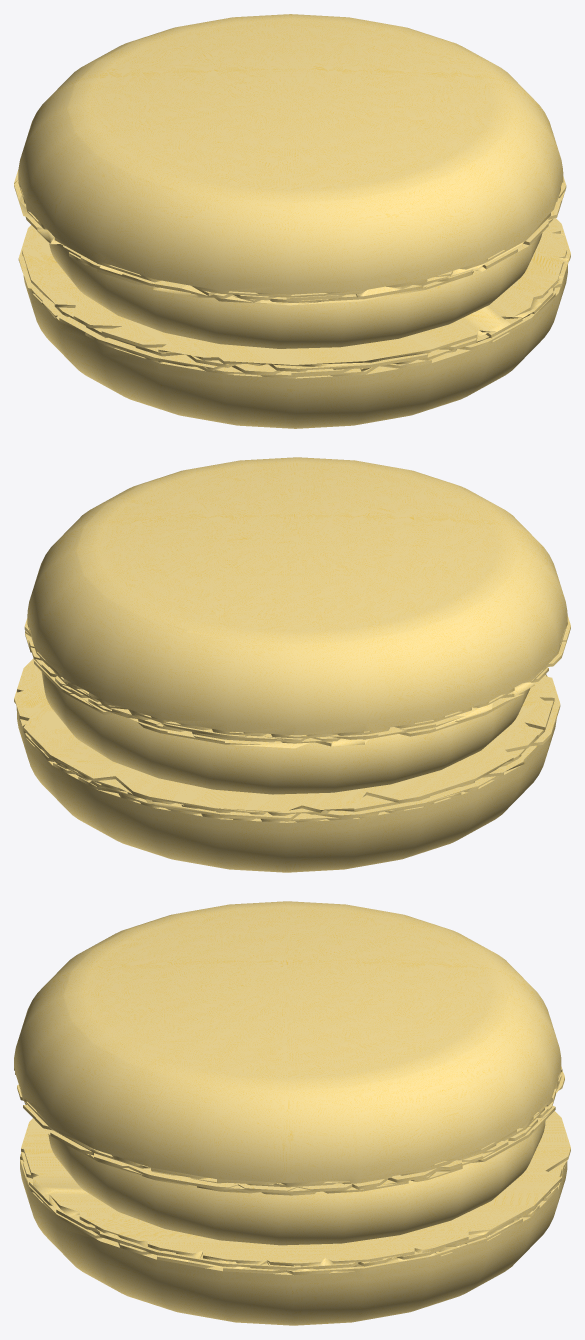
File: vanilla.dae
3 renders of one model, top to bottom at view 1: azimuth 30°, elevation 25°; view 2: azimuth 150°, elevation 25°; view 3: azimuth 270°, elevation 25°, orthographic.
Visible parts, largest first — view 1: Composant_6 (×3); view 2: Composant_6 (×3); view 3: Composant_6 (×3).
Boxes of the visible parts, <box> form: Composant_6 (×3): <box>14,14,570,428</box>; Composant_6 (×3): <box>14,457,570,872</box>; Composant_6 (×3): <box>14,901,570,1325</box>.
Size of the model in its own units: 1.14 by 1.13 by 0.5612.
